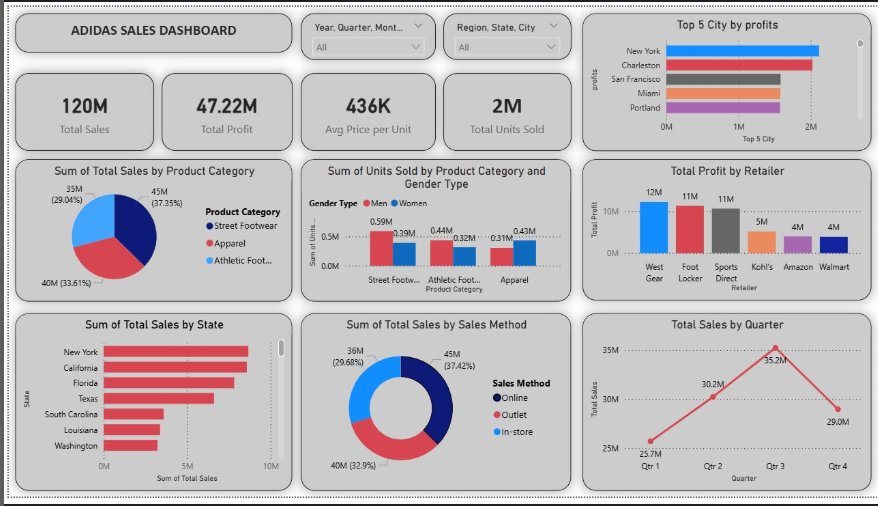

This screenshot's page, from the dashboard's own definition file:
{"tool":"powerbi","page":{"name":"Page 1","canvas":[1280,720],"ordinal":0},"visuals":[{"type":"textbox","box":[9.2,9.2,407.9,57.9],"z":0},{"type":"card","fields":{"Values":["Sum(Adidas_Sales.Total Sales)"]},"box":[9.2,97.4,203.9,114.5],"z":1000},{"type":"card","fields":{"Values":["Sum(Adidas_Sales.Operating Profit)"]},"box":[225,97.4,192.1,114.5],"z":2000},{"type":"card","fields":{"Values":["Sum(Adidas_Sales.Price per Unit)"]},"box":[430.3,97.4,198.7,114.5],"z":3000},{"type":"card","fields":{"Values":["Sum(Adidas_Sales.Units Sold)"]},"box":[639.5,97.4,188.2,114.5],"z":4000},{"type":"clusteredBarChart","fields":{"Y":["Sum(Adidas_Sales.Total Sales)"],"Category":["Adidas_Sales.State"]},"box":[9.2,450,407.9,260.5],"z":5000},{"type":"pieChart","fields":{"Y":["Sum(Adidas_Sales.Total Sales)"],"Category":["Adidas_Sales.Product Category"]},"box":[9.2,223.7,407.9,209.2],"z":6000},{"type":"clusteredColumnChart","fields":{"Y":["Sum(Adidas_Sales.Units Sold)"],"Category":["Adidas_Sales.Product Category"],"Series":["Adidas_Sales.Gender Type"]},"box":[430.3,223.7,397.4,209.2],"z":7000},{"type":"donutChart","fields":{"Category":["Adidas_Sales.Sales Method"],"Y":["Sum(Adidas_Sales.Total Sales)"]},"box":[430.3,450,397.4,260.5],"z":8000},{"type":"lineChart","fields":{"Y":["Sum(Adidas_Sales.Total Sales)"],"Category":["Adidas_Sales.Invoice Date.Variation.Date Hierarchy.Quarter"]},"box":[844.7,450,425,260.5],"z":9000},{"type":"clusteredBarChart","fields":{"Category":["Adidas_Sales.City"],"Y":["Sum(Adidas_Sales.Total Profit)"]},"box":[844.7,9.2,425,202.6],"z":10000},{"type":"clusteredColumnChart","fields":{"Category":["Adidas_Sales.Retailer"],"Y":["Sum(Adidas_Sales.Operation Profit)"]},"box":[844.7,223.7,425,207.9],"z":11000},{"type":"slicer","fields":{"Values":["Adidas_Sales.Invoice Date.Variation.Date Hierarchy.Year","Adidas_Sales.Invoice Date.Variation.Date Hierarchy.Quarter","Adidas_Sales.Invoice Date.Variation.Date Hierarchy.Month","Adidas_Sales.Invoice Date.Variation.Date Hierarchy.Day"]},"box":[430.3,9.2,198.7,68.4],"z":12000},{"type":"slicer","fields":{"Values":["Adidas_Sales.Region","Adidas_Sales.State","Adidas_Sales.City"]},"box":[639.5,9.2,188.2,68.4],"z":13000}]}

Visuals, with their boxes in screenshot pixels (x1, y1, x2, y2), scaled from the page's 1280x720 canvas onto the 878x506 screenshot:
textbox: 6/6/286/47
card - Sum(Adidas_Sales.Total Sales): 6/68/146/149
card - Sum(Adidas_Sales.Operating Profit): 154/68/286/149
card - Sum(Adidas_Sales.Price per Unit): 295/68/431/149
card - Sum(Adidas_Sales.Units Sold): 439/68/568/149
clusteredBarChart - Sum(Adidas_Sales.Total Sales) x Adidas_Sales.State: 6/316/286/499
pieChart - Sum(Adidas_Sales.Total Sales) x Adidas_Sales.Product Category: 6/157/286/304
clusteredColumnChart - Sum(Adidas_Sales.Units Sold) x Adidas_Sales.Product Category: 295/157/568/304
donutChart - Adidas_Sales.Sales Method x Sum(Adidas_Sales.Total Sales): 295/316/568/499
lineChart - Sum(Adidas_Sales.Total Sales) x Adidas_Sales.Invoice Date.Variation.Date Hierarchy.Quarter: 579/316/871/499
clusteredBarChart - Adidas_Sales.City x Sum(Adidas_Sales.Total Profit): 579/6/871/149
clusteredColumnChart - Adidas_Sales.Retailer x Sum(Adidas_Sales.Operation Profit): 579/157/871/303
slicer - Adidas_Sales.Invoice Date.Variation.Date Hierarchy.Year x Adidas_Sales.Invoice Date.Variation.Date Hierarchy.Quarter: 295/6/431/55
slicer - Adidas_Sales.Region x Adidas_Sales.State: 439/6/568/55
